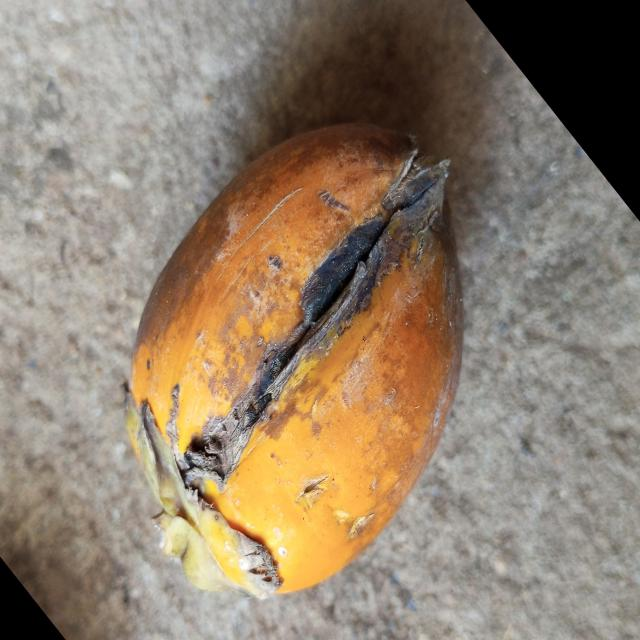damaged: (124, 123, 465, 603)
